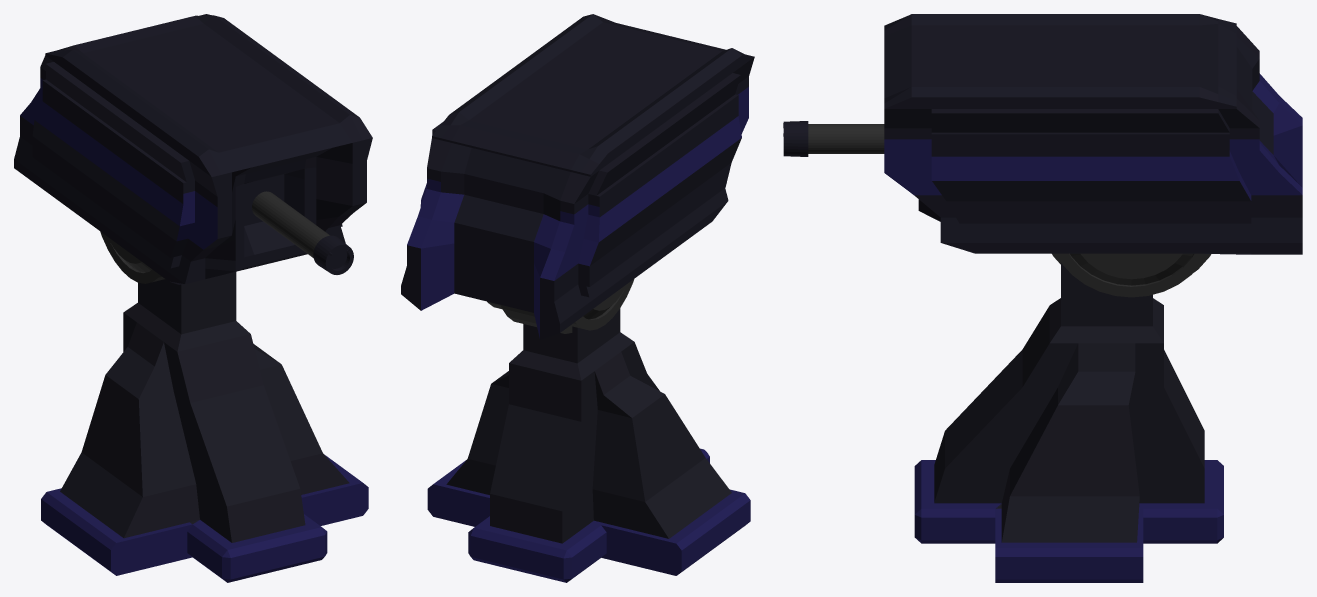
The model's file is turret.fbx.
The picture shows the model from 3 angles, left to right: view 1: azimuth 30°, elevation 25°; view 2: azimuth 150°, elevation 25°; view 3: azimuth 270°, elevation 25°; orthographic projection. The views are drawn at different scales.
Parts seen in each view (by area): view 1: head, base; view 2: head, base; view 3: head, base.
Part boxes in pixels (x1,y1,x2,y2): head: [14, 14, 372, 284]; base: [41, 272, 368, 582]; head: [401, 14, 754, 339]; base: [427, 308, 750, 582]; head: [783, 14, 1302, 297]; base: [914, 263, 1223, 582].
Size of the model in its own units: 131 by 215 by 216.
